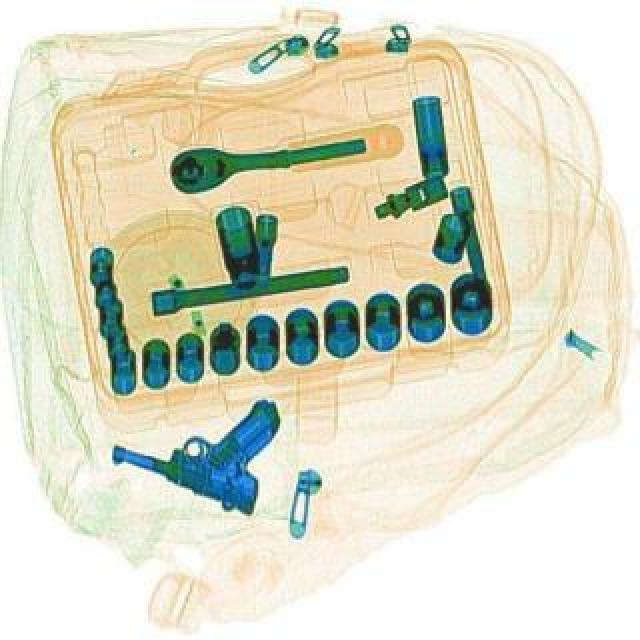gun: (108, 364, 300, 522)
